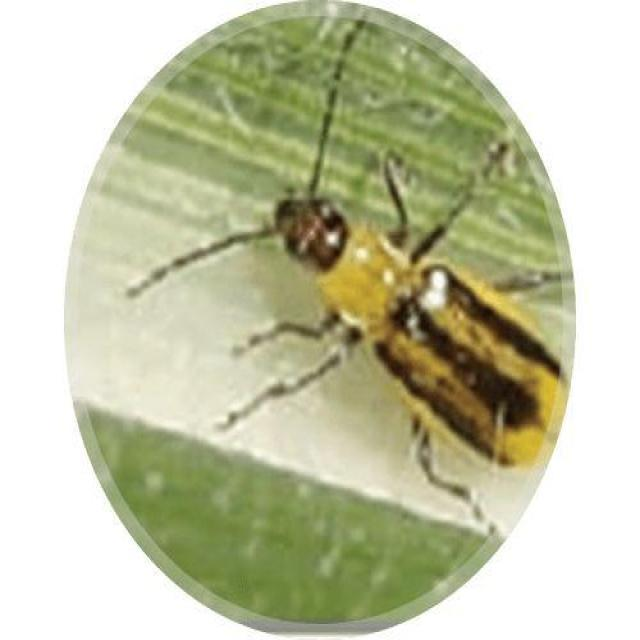trips: (212, 140, 605, 500)
